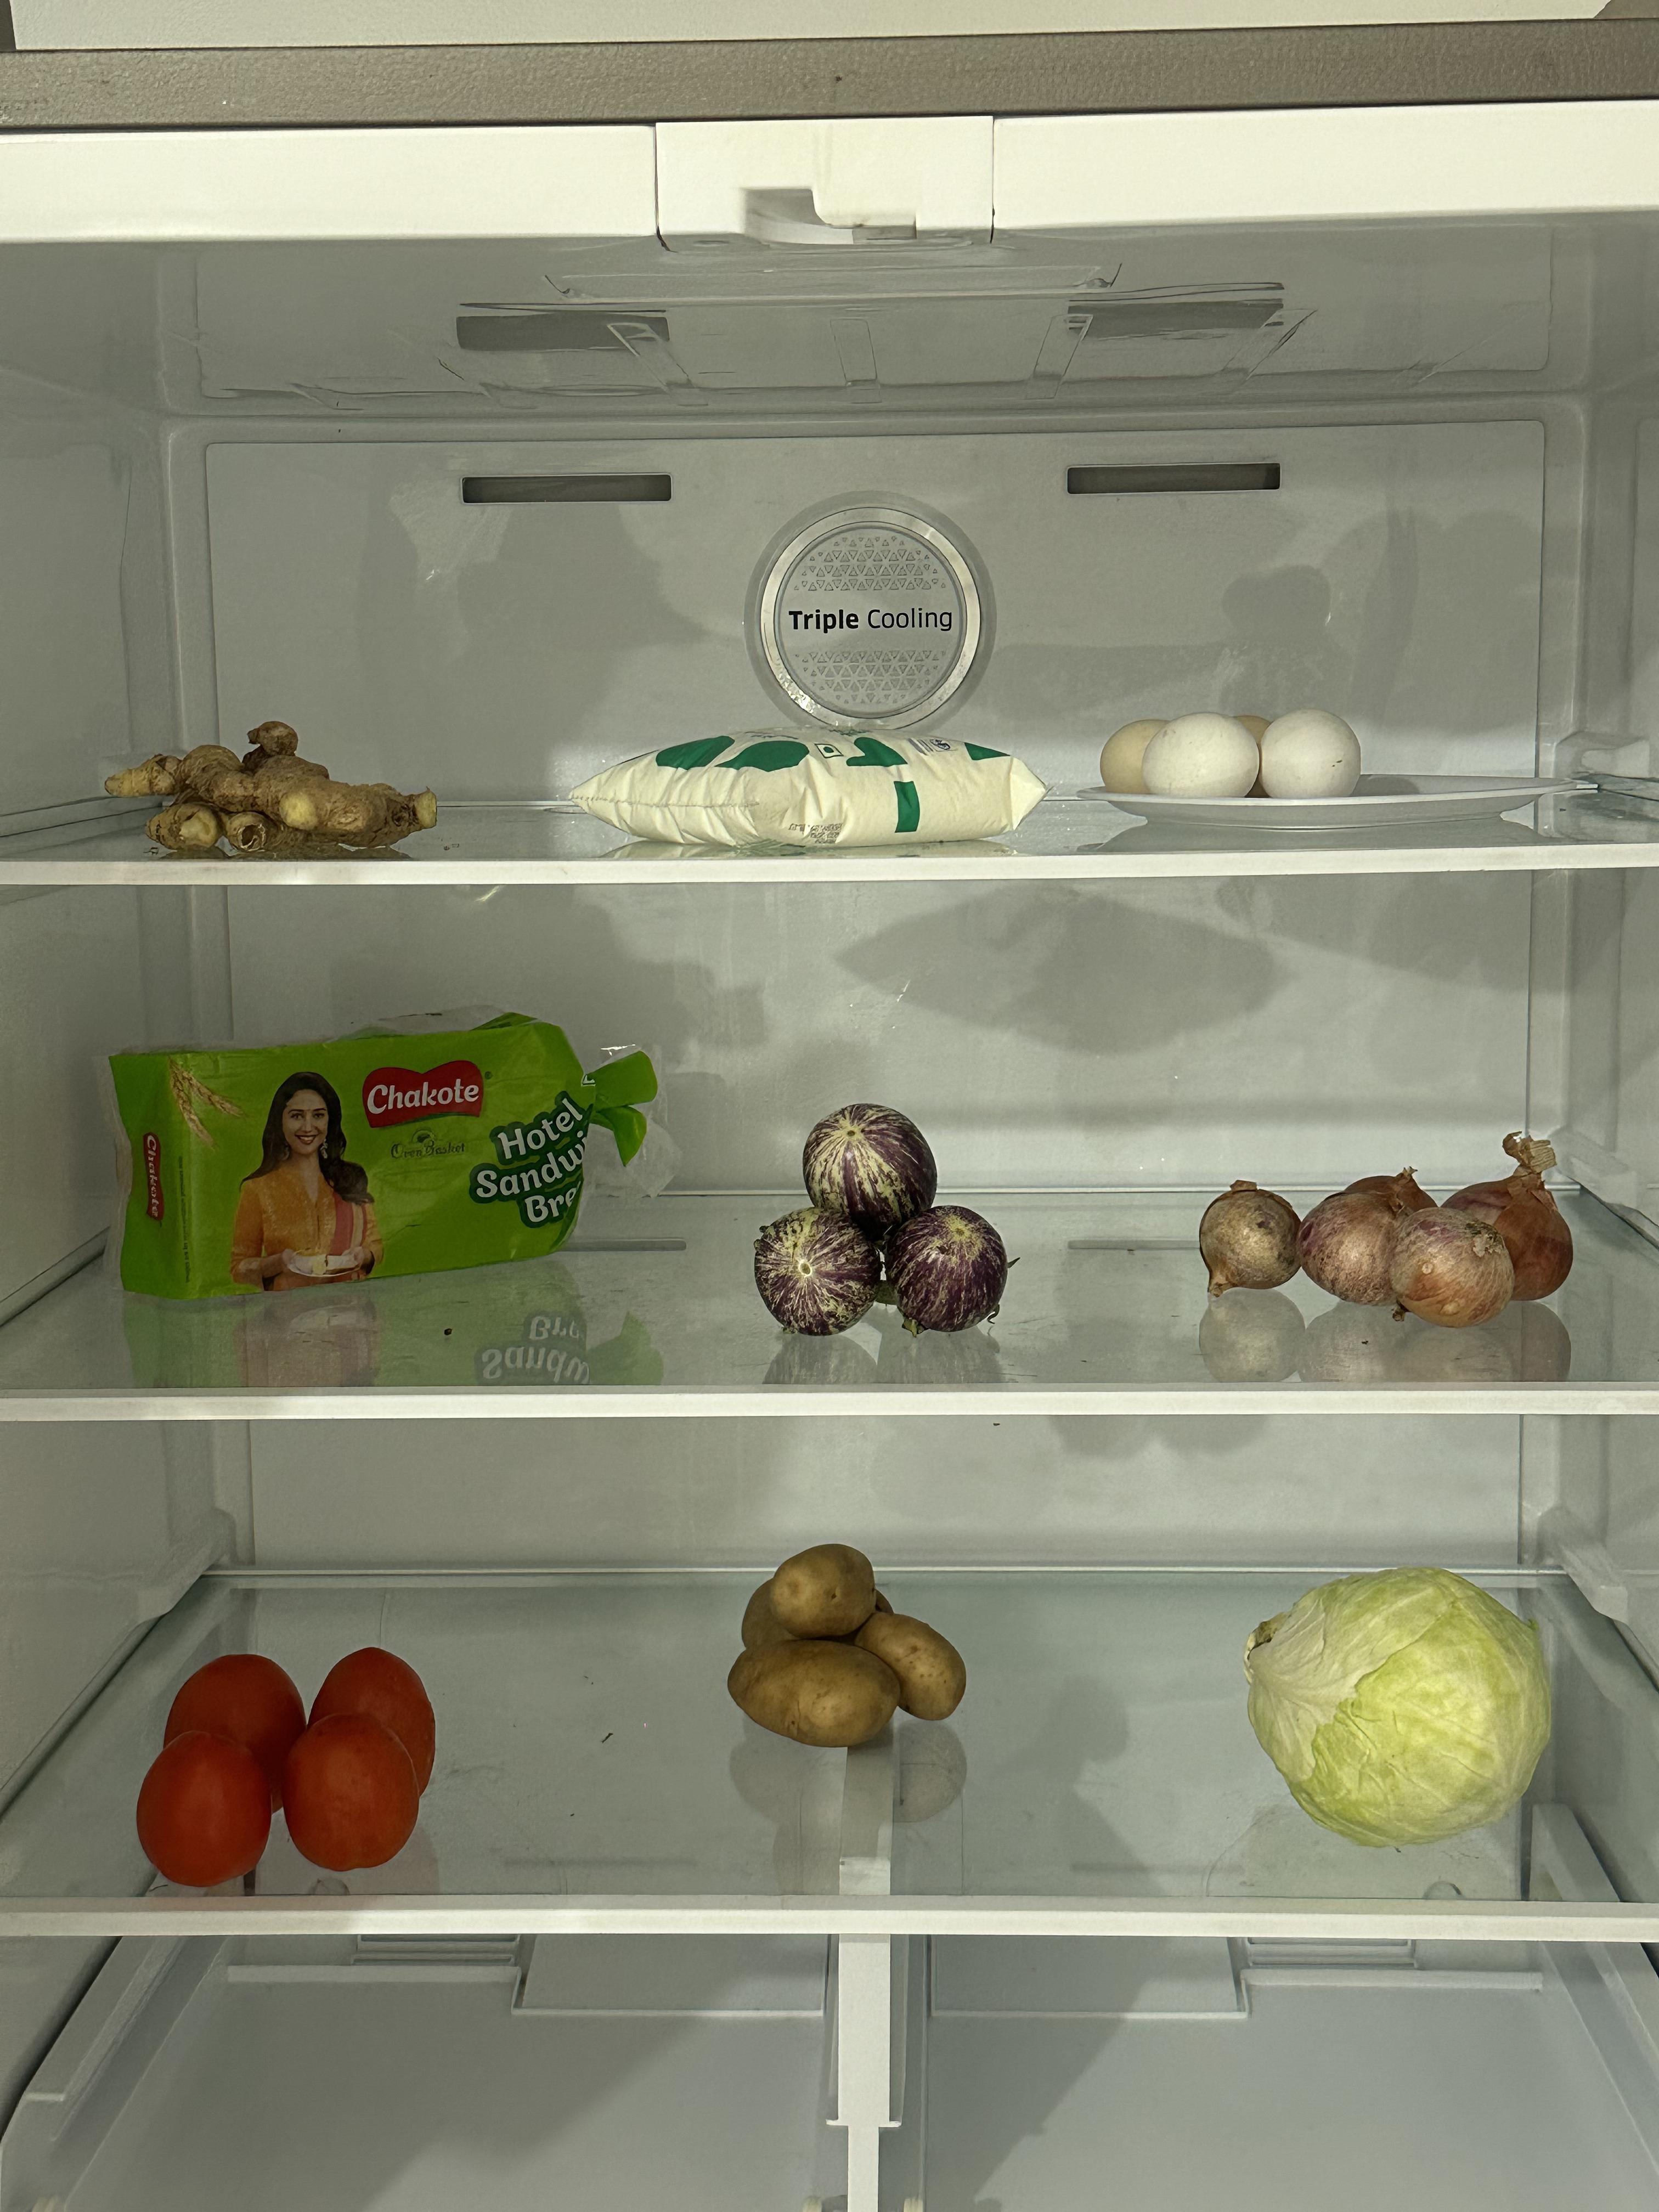bread: (80, 1000, 605, 1298)
bringal: (744, 1096, 1012, 1343)
cabbage: (1244, 1566, 1554, 1841)
egg: (1098, 707, 1368, 799)
ginger: (98, 714, 441, 857)
milk: (579, 723, 1044, 846)
onion: (1187, 1165, 1574, 1322)
potato: (727, 1536, 969, 1749)
tomato: (141, 1644, 444, 1883)
